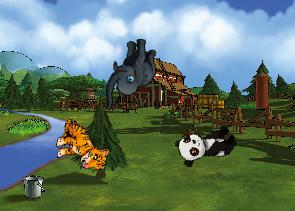elephant: (99, 37, 159, 110)
panda: (173, 120, 240, 169)
tiger: (51, 117, 114, 173)
